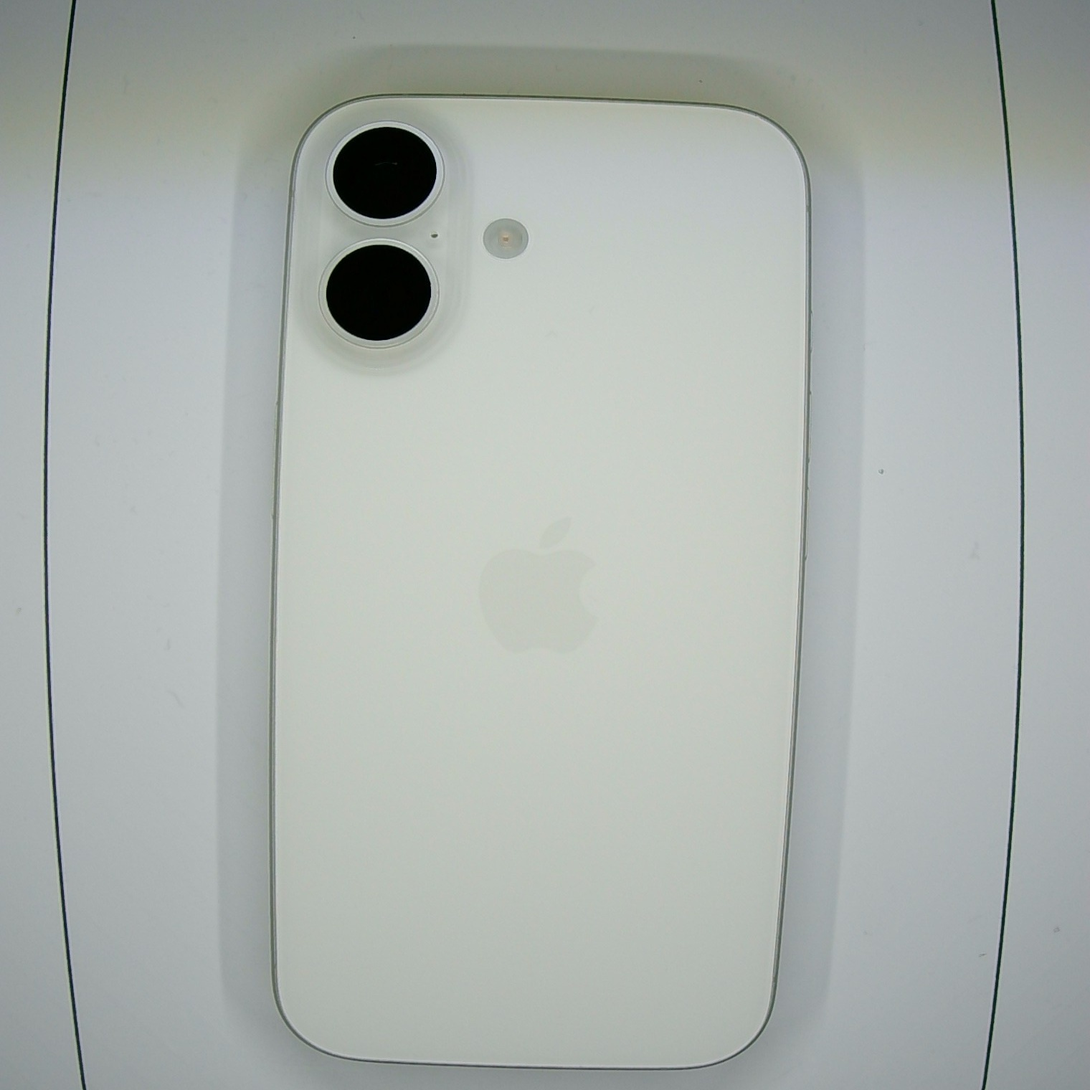iphone16_white: (47, 238, 1083, 844), (84, 622, 383, 804)
